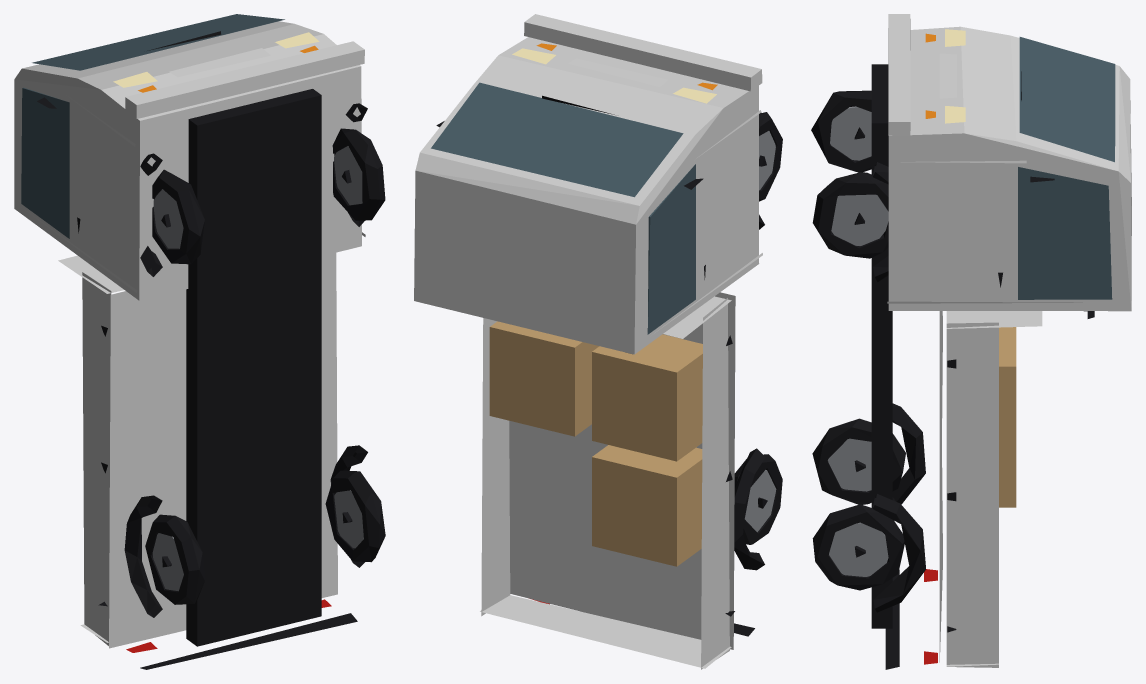
File: SolarpunkKeiTruck01_LOD1.fbx
3 renders of one model, left to right at view 1: azimuth 30°, elevation 25°; view 2: azimuth 150°, elevation 25°; view 3: azimuth 270°, elevation 25°, orthographic. The views are drawn at different scales.
Parts seen in each view (by area): view 1: SolarpunkKeiTruck01_LOD1; view 2: SolarpunkKeiTruck01_LOD1; view 3: SolarpunkKeiTruck01_LOD1.
Boxes of the visible parts, x1,y1,x2,y2 form: SolarpunkKeiTruck01_LOD1: [14, 14, 385, 669]; SolarpunkKeiTruck01_LOD1: [414, 14, 782, 669]; SolarpunkKeiTruck01_LOD1: [811, 14, 1131, 669].
Bounding box in the file's own units: 165 × 349 × 184.
Materials: 1 (1 with a texture image).
